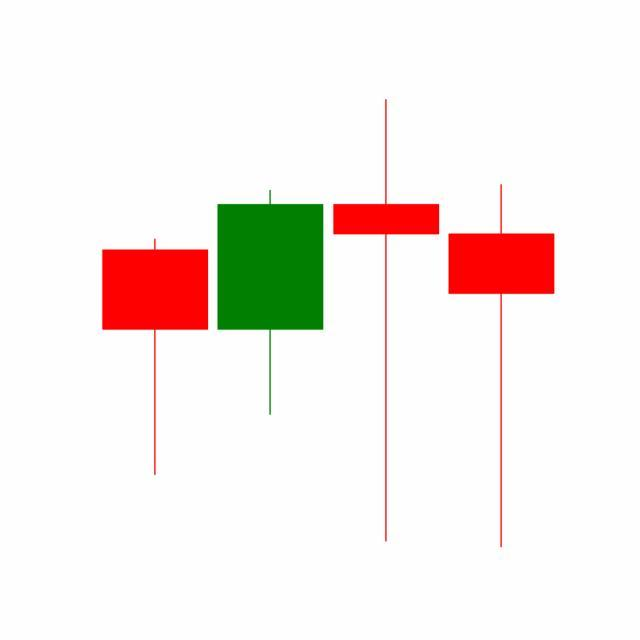Spinning Top: (329, 94, 445, 547)
